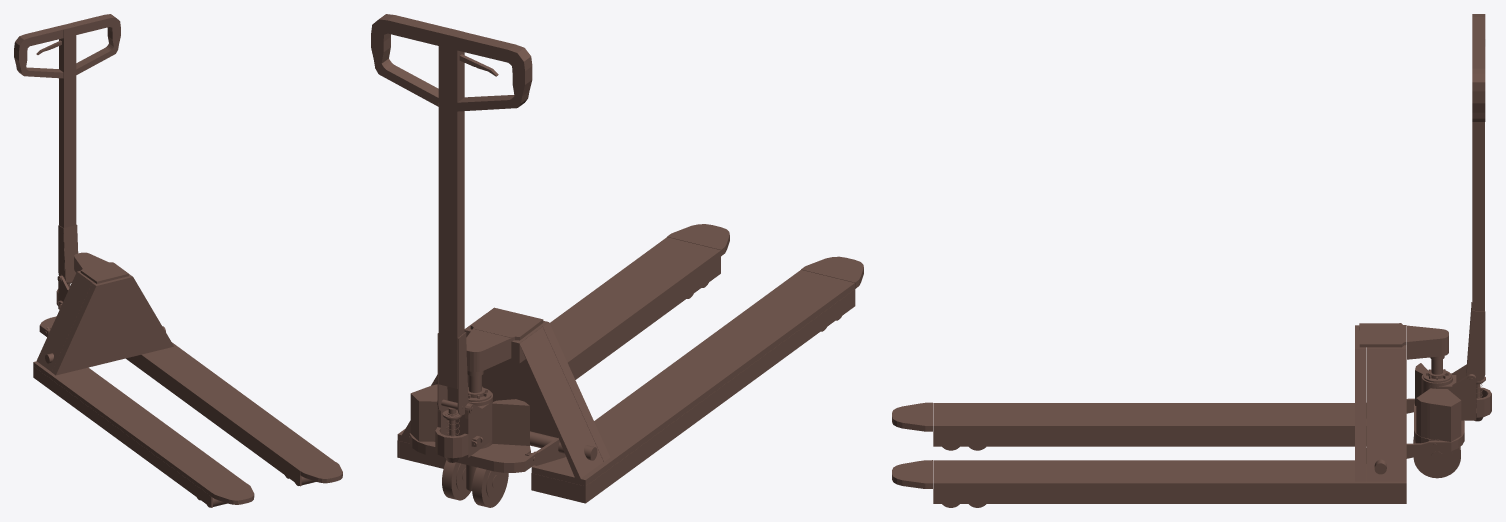
File: GCC-AAV-13220-30.nwd(13).fbx
3 renders of one model, left to right at view 1: azimuth 30°, elevation 25°; view 2: azimuth 150°, elevation 25°; view 3: azimuth 270°, elevation 25°, orthographic. The views are drawn at different scales.
Visible parts, largest first — view 1: EXTRUSION 7 of EQUIPMENT /701-ME-057, BOX 3 of EQUIPMENT /701-ME-057, BOX 6 of EQUIPMENT /701-ME-057, BOX 43 of EQUIPMENT /701-ME-057, BOX 1 of EQUIPMENT /701-ME-057, BOX 5 of EQUIPMENT /701-ME-057, EXTRUSION 9 of EQUIPMENT /701-ME-057, EXTRUSION 27 of EQUIPMENT /701-ME-057, EXTRUSION 26 of EQUIPMENT /701-ME-057, EXTRUSION 11 of EQUIPMENT /701-ME-057, EXTRUSION 25 of EQUIPMENT /701-ME-057, EXTRUSION 1 of EQUIPMENT /701-ME-057 (+2 smaller); view 2: BOX 3 of EQUIPMENT /701-ME-057, BOX 43 of EQUIPMENT /701-ME-057, BOX 6 of EQUIPMENT /701-ME-057, BOX 1 of EQUIPMENT /701-ME-057, EXTRUSION 9 of EQUIPMENT /701-ME-057, EXTRUSION 7 of EQUIPMENT /701-ME-057, EXTRUSION 27 of EQUIPMENT /701-ME-057, EXTRUSION 26 of EQUIPMENT /701-ME-057, BOX 5 of EQUIPMENT /701-ME-057, EXTRUSION 12 of EQUIPMENT /701-ME-057, EXTRUSION 14 of EQUIPMENT /701-ME-057, EXTRUSION 10 of EQUIPMENT /701-ME-057 (+11 smaller); view 3: BOX 6 of EQUIPMENT /701-ME-057, BOX 3 of EQUIPMENT /701-ME-057, BOX 7 of EQUIPMENT /701-ME-057, BOX 2 of EQUIPMENT /701-ME-057, EXTRUSION 8 of EQUIPMENT /701-ME-057, BOX 43 of EQUIPMENT /701-ME-057, EXTRUSION 13 of EQUIPMENT /701-ME-057, EXTRUSION 7 of EQUIPMENT /701-ME-057, EXTRUSION 10 of EQUIPMENT /701-ME-057, EXTRUSION 11 of EQUIPMENT /701-ME-057, EXTRUSION 24 of EQUIPMENT /701-ME-057, EXTRUSION 27 of EQUIPMENT /701-ME-057 (+3 smaller).
Part boxes in pixels (bbox=[...]): EXTRUSION 7 of EQUIPMENT /701-ME-057: bbox=[51, 274, 173, 375]; BOX 3 of EQUIPMENT /701-ME-057: bbox=[33, 361, 246, 496]; BOX 6 of EQUIPMENT /701-ME-057: bbox=[137, 342, 335, 474]; BOX 43 of EQUIPMENT /701-ME-057: bbox=[59, 23, 76, 227]; BOX 1 of EQUIPMENT /701-ME-057: bbox=[33, 366, 212, 507]; BOX 5 of EQUIPMENT /701-ME-057: bbox=[126, 356, 301, 486]; EXTRUSION 9 of EQUIPMENT /701-ME-057: bbox=[36, 272, 91, 371]; EXTRUSION 27 of EQUIPMENT /701-ME-057: bbox=[72, 14, 120, 74]; EXTRUSION 26 of EQUIPMENT /701-ME-057: bbox=[14, 26, 63, 78]; EXTRUSION 11 of EQUIPMENT /701-ME-057: bbox=[80, 261, 128, 283]; EXTRUSION 25 of EQUIPMENT /701-ME-057: bbox=[63, 225, 78, 282]; EXTRUSION 1 of EQUIPMENT /701-ME-057: bbox=[211, 483, 254, 504]; BOX 3 of EQUIPMENT /701-ME-057: bbox=[531, 270, 854, 486]; BOX 43 of EQUIPMENT /701-ME-057: bbox=[438, 27, 464, 388]; BOX 6 of EQUIPMENT /701-ME-057: bbox=[397, 237, 721, 443]; BOX 1 of EQUIPMENT /701-ME-057: bbox=[583, 289, 855, 503]; EXTRUSION 9 of EQUIPMENT /701-ME-057: bbox=[519, 327, 603, 480]; EXTRUSION 7 of EQUIPMENT /701-ME-057: bbox=[467, 321, 610, 461]; EXTRUSION 27 of EQUIPMENT /701-ME-057: bbox=[371, 14, 445, 106]; EXTRUSION 26 of EQUIPMENT /701-ME-057: bbox=[457, 32, 532, 111]; BOX 5 of EQUIPMENT /701-ME-057: bbox=[570, 257, 720, 379]; EXTRUSION 12 of EQUIPMENT /701-ME-057: bbox=[409, 433, 537, 472]; EXTRUSION 14 of EQUIPMENT /701-ME-057: bbox=[492, 399, 529, 445]; EXTRUSION 10 of EQUIPMENT /701-ME-057: bbox=[466, 328, 511, 372]; BOX 6 of EQUIPMENT /701-ME-057: bbox=[933, 460, 1406, 488]; BOX 3 of EQUIPMENT /701-ME-057: bbox=[933, 403, 1366, 431]; BOX 7 of EQUIPMENT /701-ME-057: bbox=[933, 489, 1406, 503]; BOX 2 of EQUIPMENT /701-ME-057: bbox=[933, 431, 1366, 446]; EXTRUSION 8 of EQUIPMENT /701-ME-057: bbox=[1366, 349, 1406, 481]; BOX 43 of EQUIPMENT /701-ME-057: bbox=[1472, 38, 1484, 311]; EXTRUSION 13 of EQUIPMENT /701-ME-057: bbox=[1416, 388, 1461, 441]; EXTRUSION 7 of EQUIPMENT /701-ME-057: bbox=[1355, 325, 1365, 481]; EXTRUSION 10 of EQUIPMENT /701-ME-057: bbox=[1407, 325, 1448, 359]; EXTRUSION 11 of EQUIPMENT /701-ME-057: bbox=[1359, 323, 1406, 347]; EXTRUSION 24 of EQUIPMENT /701-ME-057: bbox=[1468, 310, 1485, 381]; EXTRUSION 27 of EQUIPMENT /701-ME-057: bbox=[1472, 46, 1485, 121].
Size of the model in its own units: 19.28 by 47.53 by 60.51.
